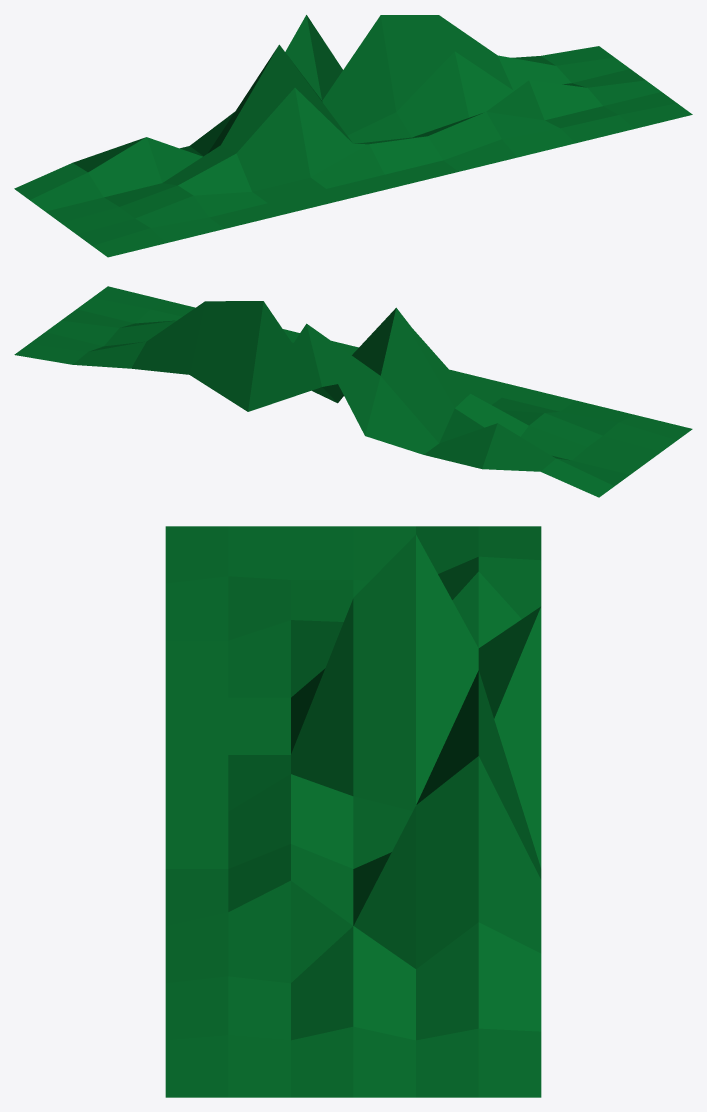
Rendered from landscape.glb.
The picture shows the model from 3 angles, top to bottom: view 1: azimuth 30°, elevation 25°; view 2: azimuth 150°, elevation 25°; view 3: azimuth 270°, elevation 25°; orthographic projection. The views are drawn at different scales.
Parts seen in each view (by area): view 1: Landscape; view 2: Landscape; view 3: Landscape.
Part boxes in pixels (x1,y1,x2,y2): Landscape: [14, 15, 692, 257]; Landscape: [14, 286, 692, 497]; Landscape: [165, 526, 541, 1097].
Size of the model in its own units: 600 by 108 by 167.
